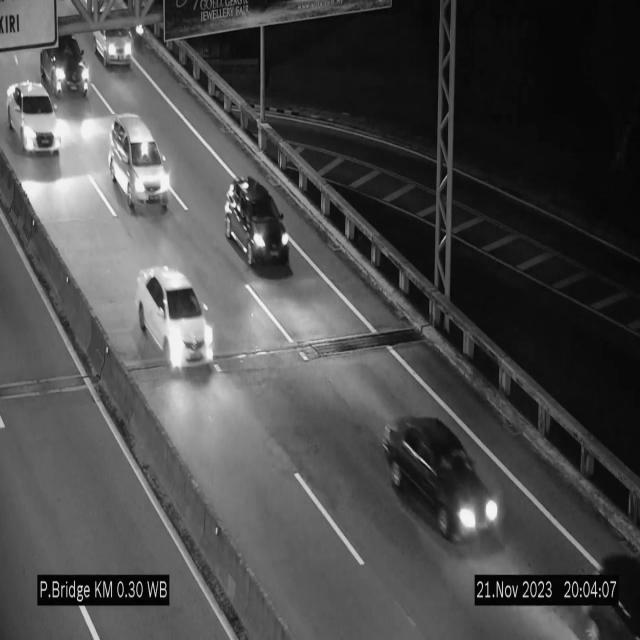Car: (378, 410, 502, 550), (137, 268, 213, 372), (224, 178, 290, 272), (109, 114, 170, 212), (6, 79, 64, 157), (38, 29, 92, 102), (91, 11, 132, 72)
Motorcycle: (132, 12, 146, 52)
